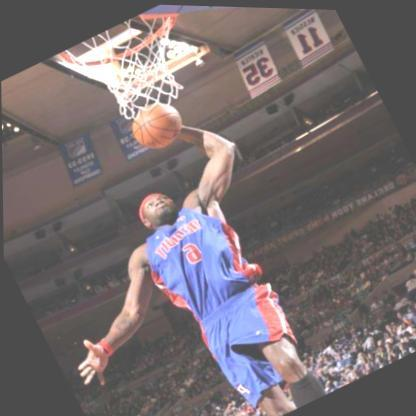basketball: (124, 93, 190, 157)
